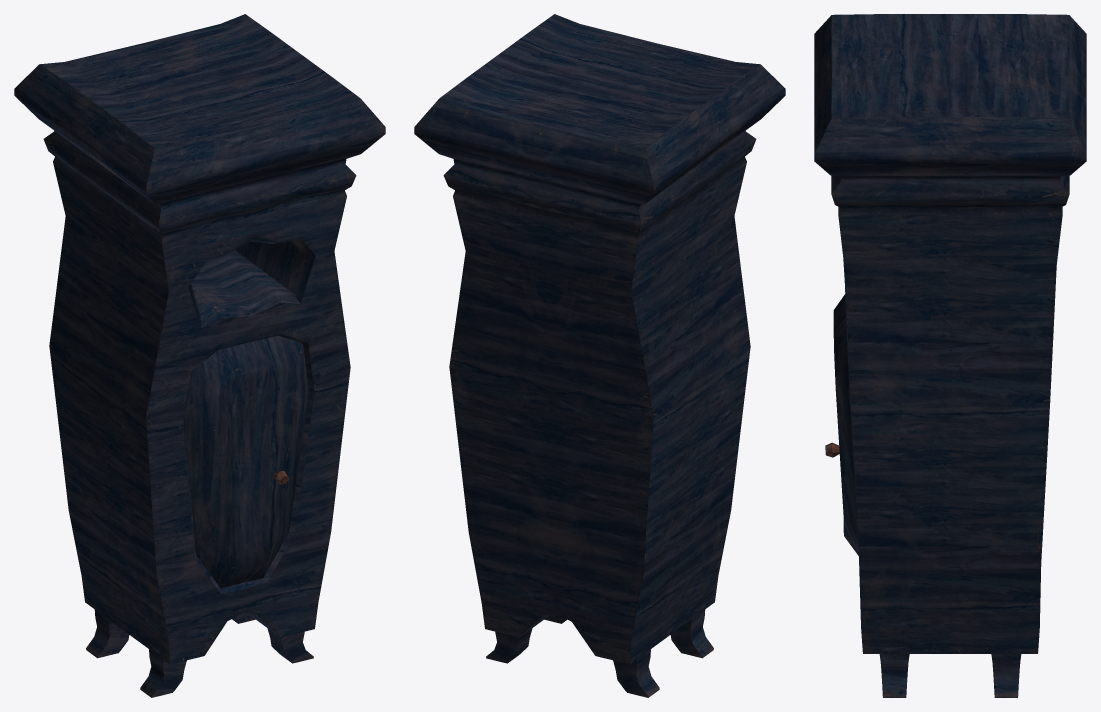
Rendered from armariet.FBX.
3 renders of one model, left to right at view 1: azimuth 30°, elevation 25°; view 2: azimuth 150°, elevation 25°; view 3: azimuth 270°, elevation 25°, orthographic. The views are drawn at different scales.
Parts seen in each view (by area): view 1: tauleta_ver_armari_llarg_LP; view 2: tauleta_ver_armari_llarg_LP; view 3: tauleta_ver_armari_llarg_LP.
Boxes of the visible parts, bbox=[...] form: tauleta_ver_armari_llarg_LP: bbox=[14, 14, 385, 697]; tauleta_ver_armari_llarg_LP: bbox=[414, 14, 785, 697]; tauleta_ver_armari_llarg_LP: bbox=[814, 14, 1086, 697].
Bounding box in the file's own units: 72.04 × 165 × 68.95.
